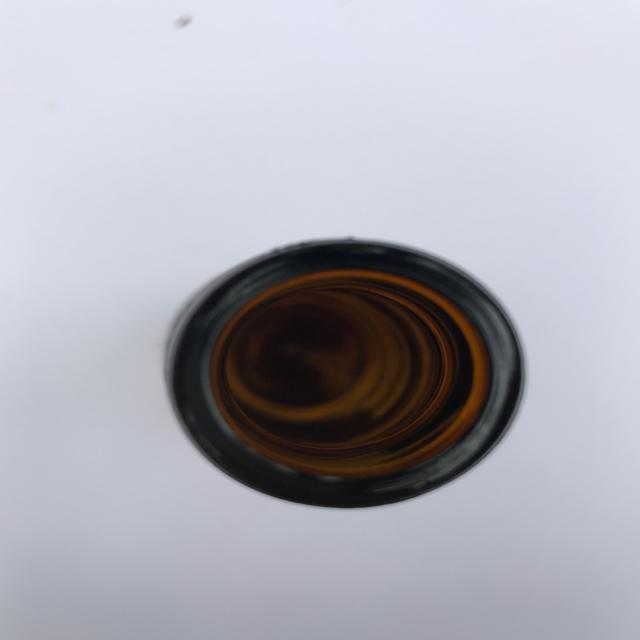glass: (163, 236, 527, 510)
